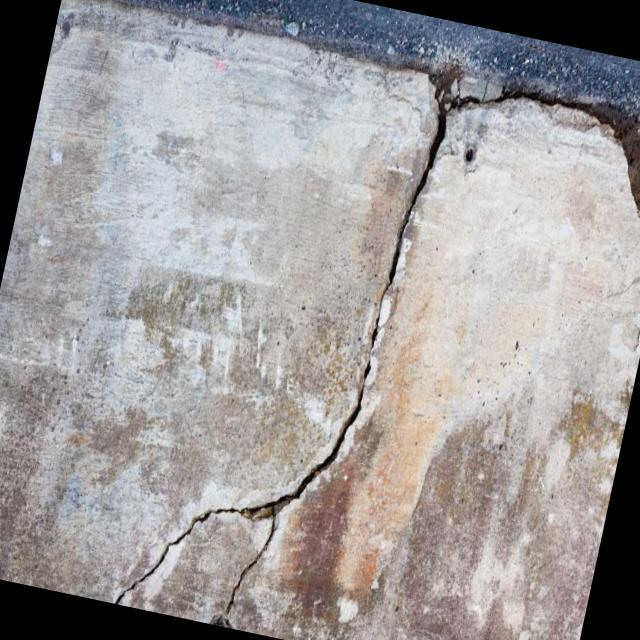crack: (112, 71, 447, 620), (446, 80, 640, 219)
